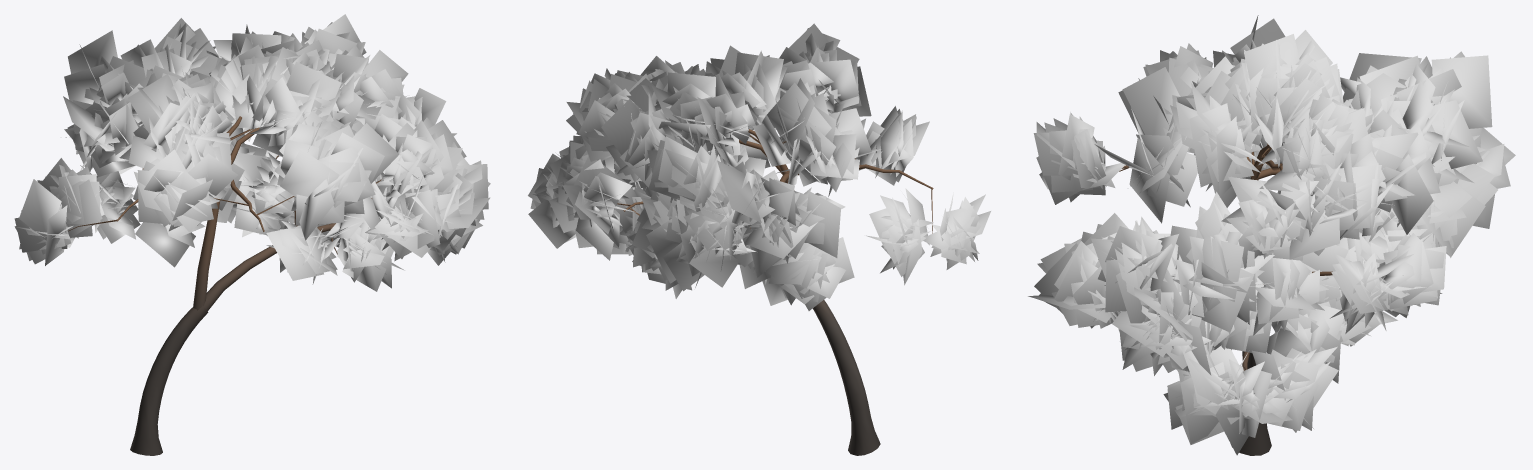
The picture shows the model from 3 angles, left to right: view 1: azimuth 30°, elevation 25°; view 2: azimuth 150°, elevation 25°; view 3: azimuth 270°, elevation 25°; orthographic projection. The views are drawn at different scales.
Parts seen in each view (by area): view 1: crown, trunk; view 2: crown, trunk; view 3: crown, trunk.
Part boxes in pixels (box(x1,y1,x2,y2)): crown: box(14, 14, 490, 291); trunk: box(68, 116, 381, 455); crown: box(528, 23, 990, 310); trunk: box(617, 129, 933, 455); crown: box(1028, 15, 1515, 455); trunk: box(1119, 143, 1332, 455).
Size of the model in its own units: 13.18 by 9.92 by 10.04.
